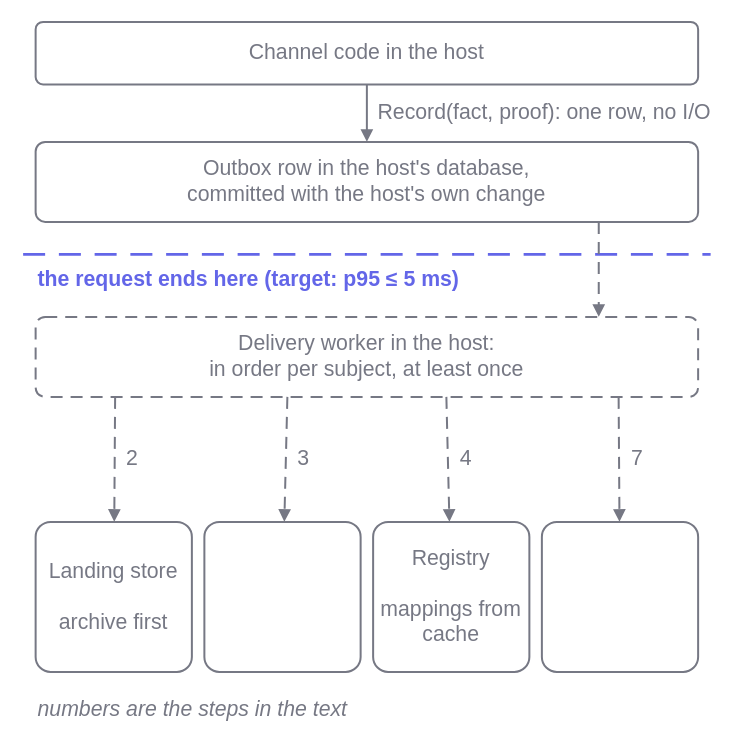
Image size: 735x751. Some labels were removed from this diagram. The box of each missing label's shape, as (x1, y1, x2, y2) in pixels:
Fact graph down: the record waits: (540, 520, 698, 672)
Identity service unknown: park: (203, 520, 361, 672)
